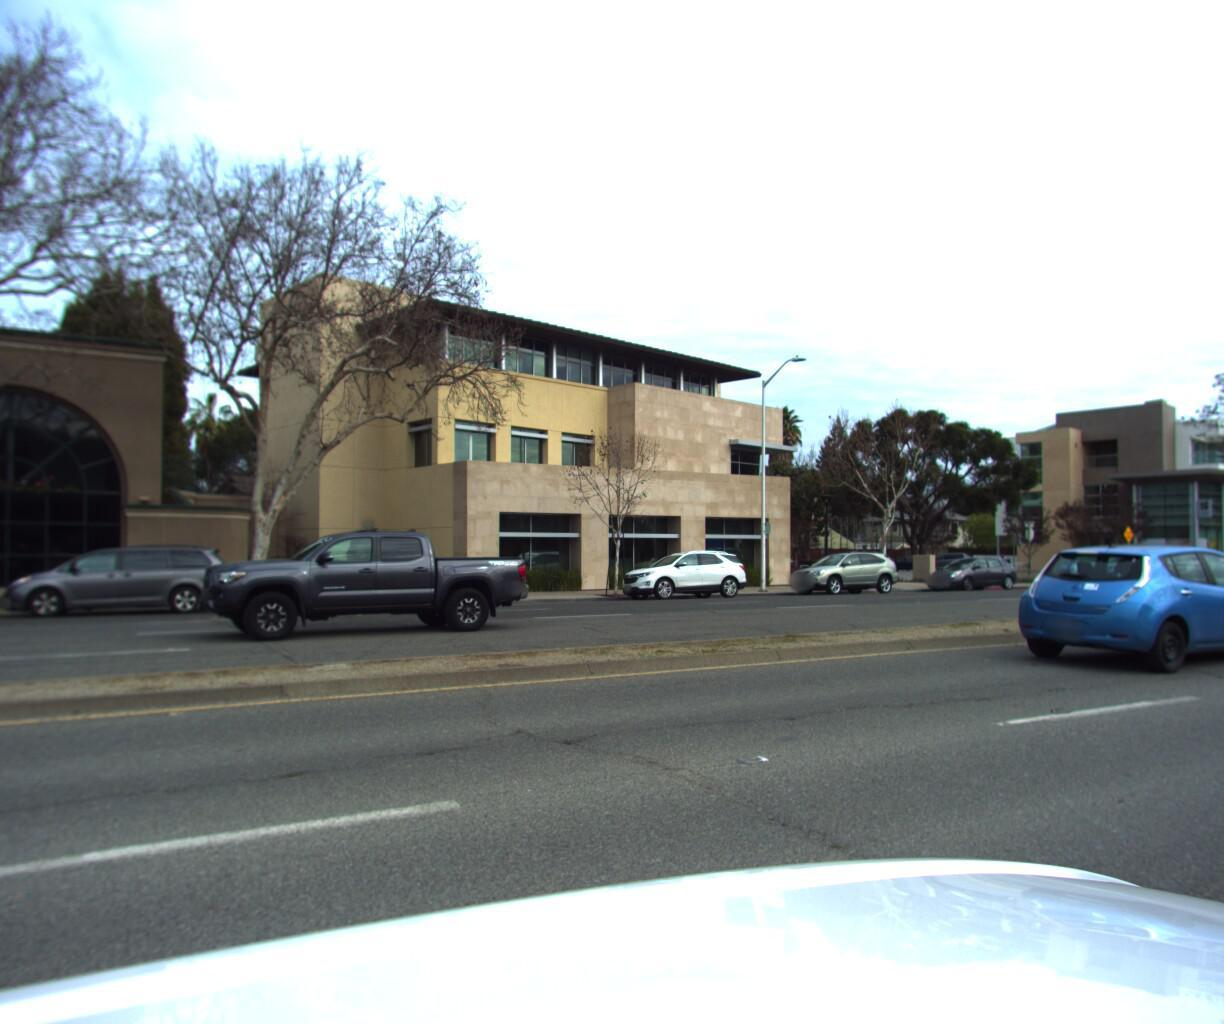car: (188, 524, 526, 644), (1000, 534, 1224, 679), (0, 543, 238, 622), (611, 547, 753, 604), (780, 547, 904, 595), (916, 551, 1019, 591)
